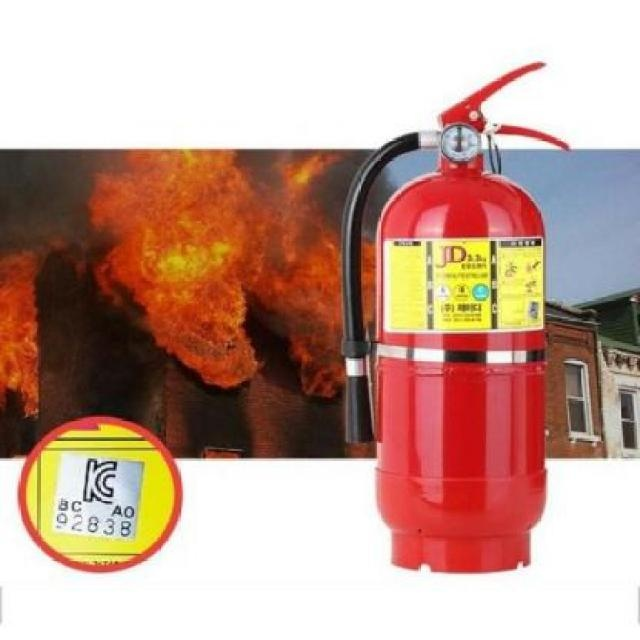fire extinguisher: (341, 61, 570, 574)
